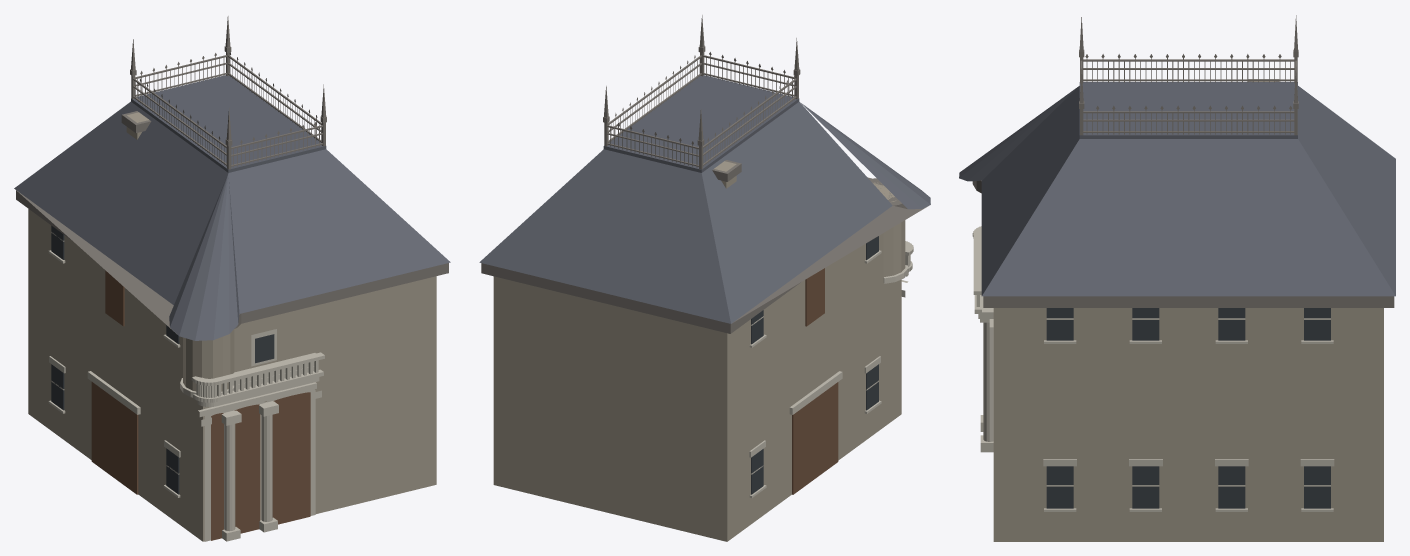
Rendered from pullman_lodge_1800_calumet__as_standing_1904.glb.
3 views of the same model, side by side, from view 1: azimuth 30°, elevation 25°; view 2: azimuth 150°, elevation 25°; view 3: azimuth 270°, elevation 25° (orthographic). The views are drawn at different scales.
Parts seen in each view (by area): view 1: pullman_lodge_1800_calumet__as_standing_1904; view 2: pullman_lodge_1800_calumet__as_standing_1904; view 3: pullman_lodge_1800_calumet__as_standing_1904.
Part boxes in pixels (x1=…): pullman_lodge_1800_calumet__as_standing_1904: x1=14, y1=16, x2=450, y2=541; pullman_lodge_1800_calumet__as_standing_1904: x1=479, y1=15, x2=930, y2=541; pullman_lodge_1800_calumet__as_standing_1904: x1=959, y1=15, x2=1395, y2=541.
Size of the model in its own units: 10.32 by 14.27 by 12.95.
